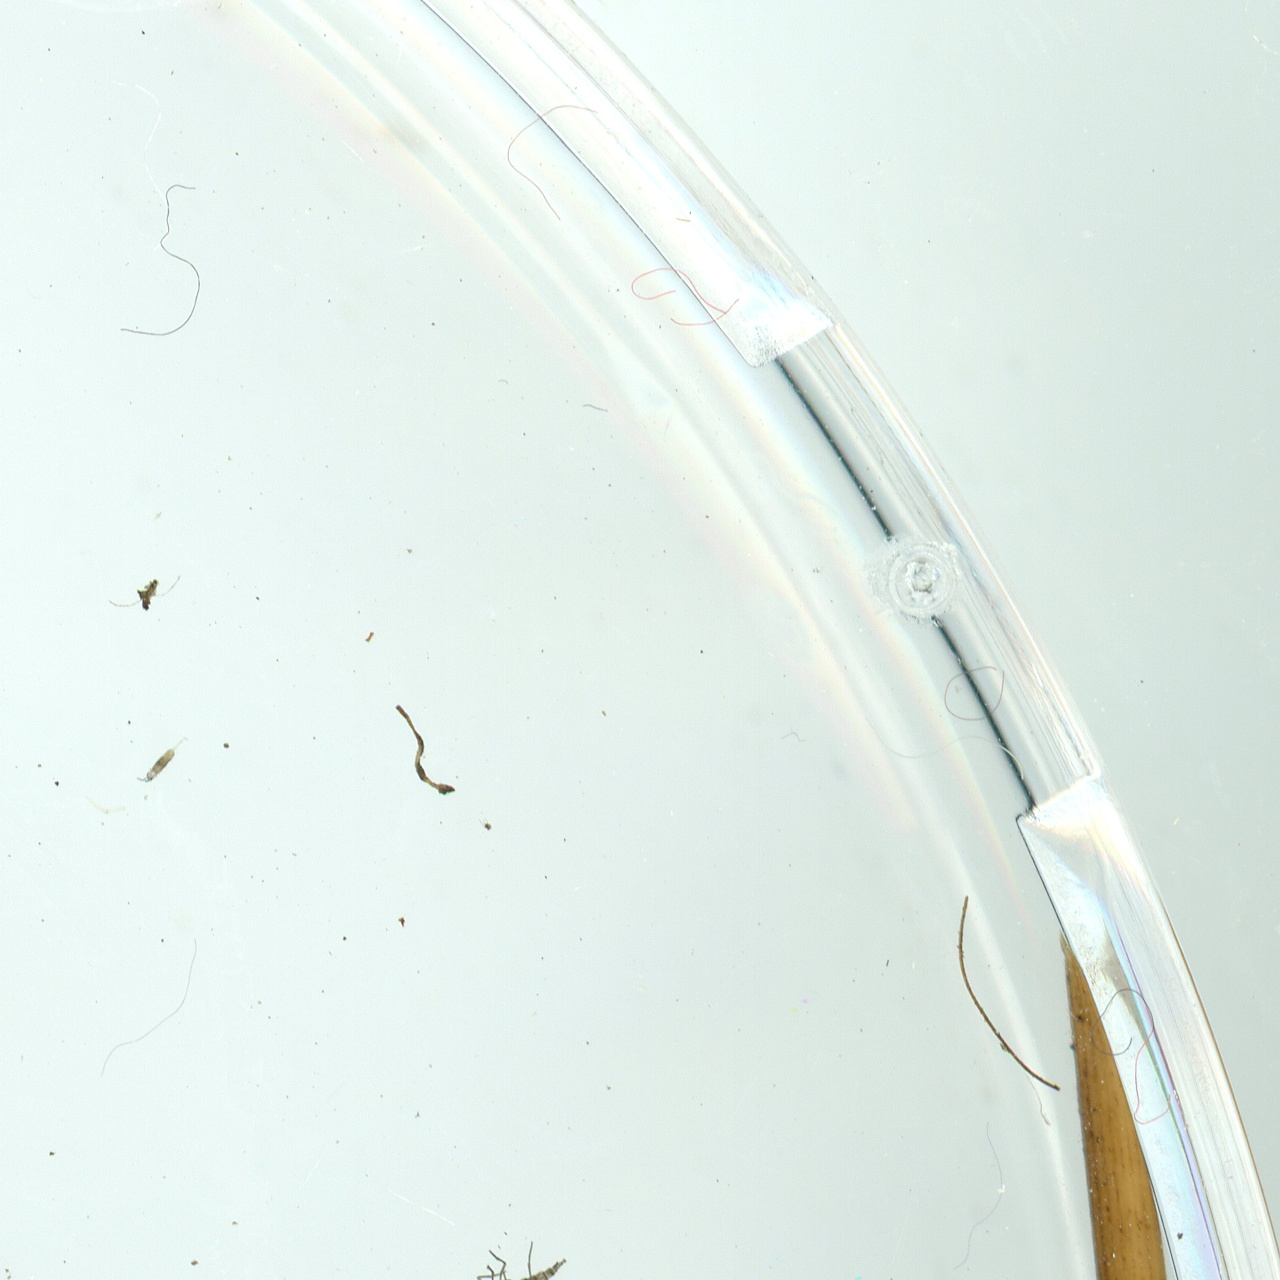arthropod: (418, 1203, 586, 1280), (131, 726, 195, 795)
